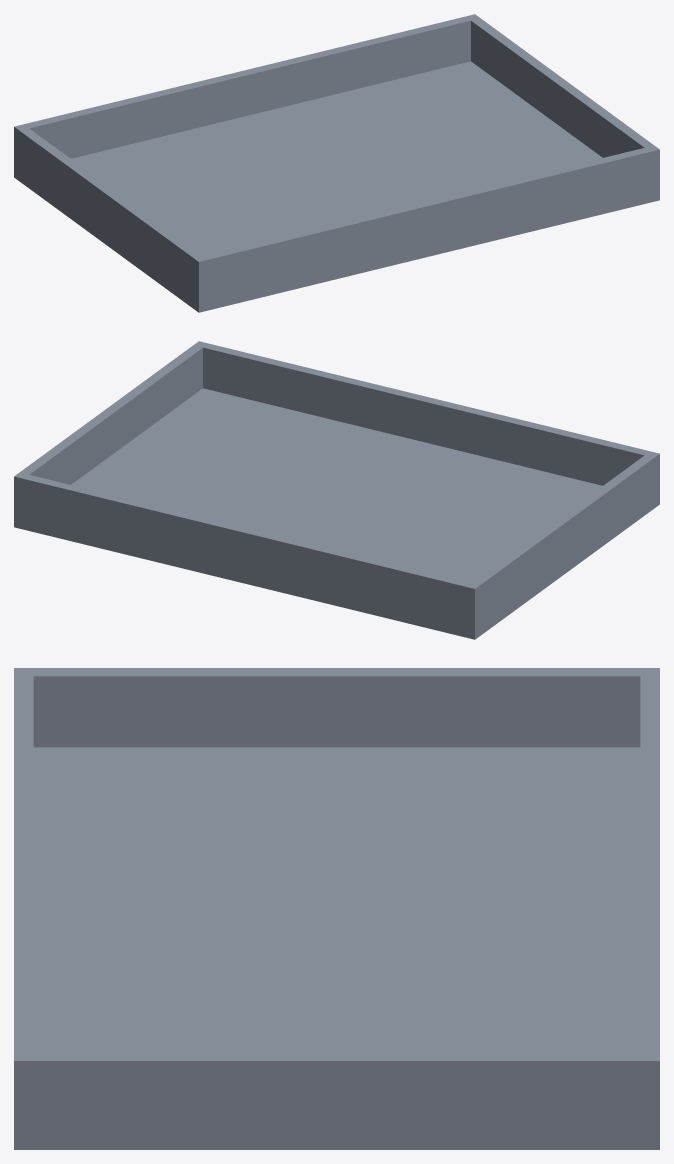
Rendered from step-1-preview-2.glb.
3 renders of one model, top to bottom at view 1: azimuth 30°, elevation 25°; view 2: azimuth 150°, elevation 25°; view 3: azimuth 270°, elevation 25°, orthographic. The views are drawn at different scales.
Visible parts, largest first — view 1: preview_10, preview_1, preview_9, preview_0, preview_2, preview_8; view 2: preview_10, preview_3, preview_7, preview_0, preview_2, preview_8; view 3: preview_10, preview_5, preview_6, preview_2.
Part boxes in pixels (<box>): preview_10: <box>71,61,602,255</box>; preview_1: <box>199,149,659,312</box>; preview_9: <box>29,20,470,158</box>; preview_0: <box>14,127,198,312</box>; preview_2: <box>14,14,659,261</box>; preview_8: <box>471,21,644,157</box>; preview_10: <box>71,388,602,582</box>; preview_3: <box>14,476,474,639</box>; preview_7: <box>203,347,644,485</box>; preview_0: <box>475,454,659,639</box>; preview_2: <box>14,341,659,588</box>; preview_8: <box>29,348,202,484</box>; preview_10: <box>33,747,640,1052</box>; preview_5: <box>14,1061,659,1149</box>; preview_6: <box>33,676,640,747</box>; preview_2: <box>14,668,659,1060</box>.
Size of the model in its own units: 0.095 by 0.01 by 0.066.
